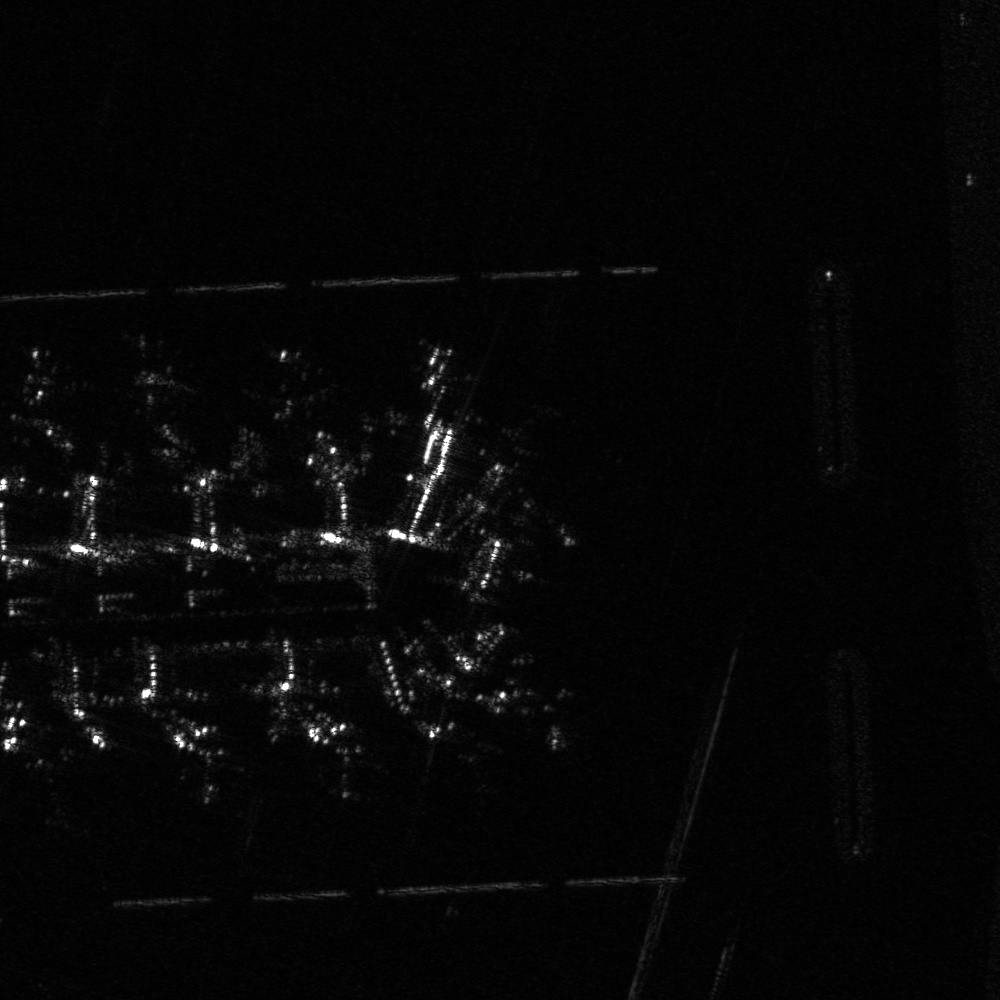A220: (486, 486, 562, 549), (486, 408, 549, 476)
A320/321: (229, 340, 351, 425), (300, 708, 390, 807), (100, 328, 200, 410), (465, 650, 558, 729), (396, 336, 483, 396)
Boeing737: (413, 712, 498, 774)
Boeing787: (170, 713, 252, 819)
other: (1, 338, 99, 411), (21, 750, 103, 836)
